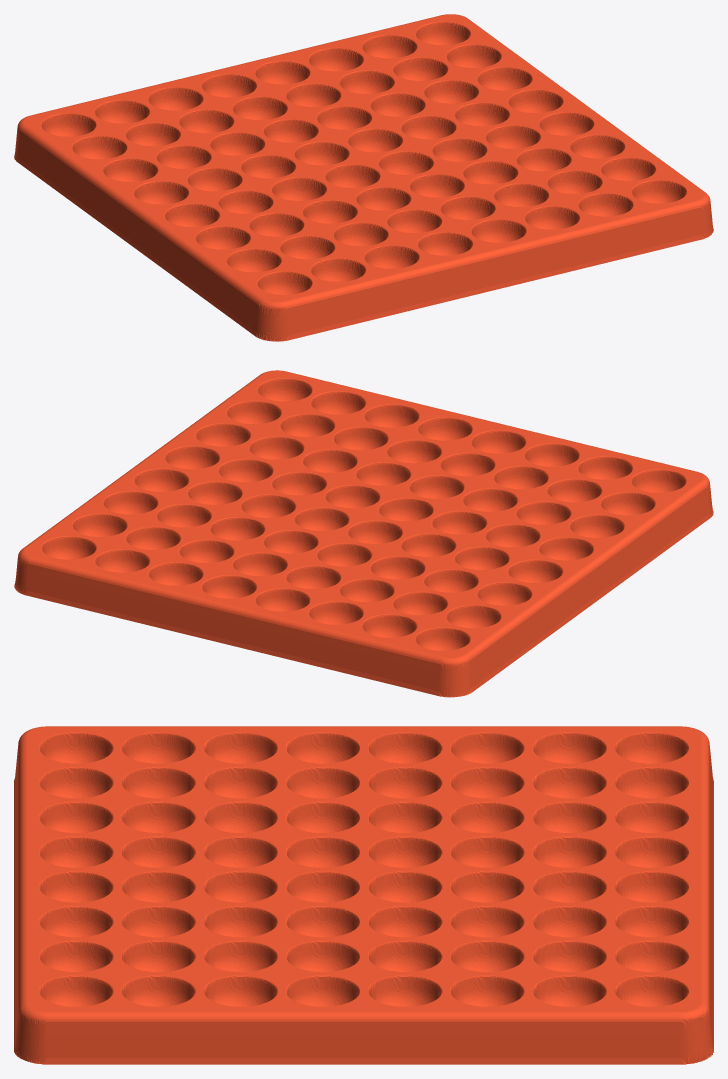
Rendered from mold.glb.
3 views of the same model, one above another, from view 1: azimuth 30°, elevation 25°; view 2: azimuth 150°, elevation 25°; view 3: azimuth 270°, elevation 25° (orthographic). The views are drawn at different scales.
Parts seen in each view (by area): view 1: geometry_0; view 2: geometry_0; view 3: geometry_0.
Part boxes in pixels (box(x1,y1,x2,y2)): geometry_0: box(14, 14, 713, 341); geometry_0: box(14, 370, 713, 697); geometry_0: box(14, 726, 713, 1064).
Bounding box in the file's own units: 0.1886 × 0.014 × 0.1886.
